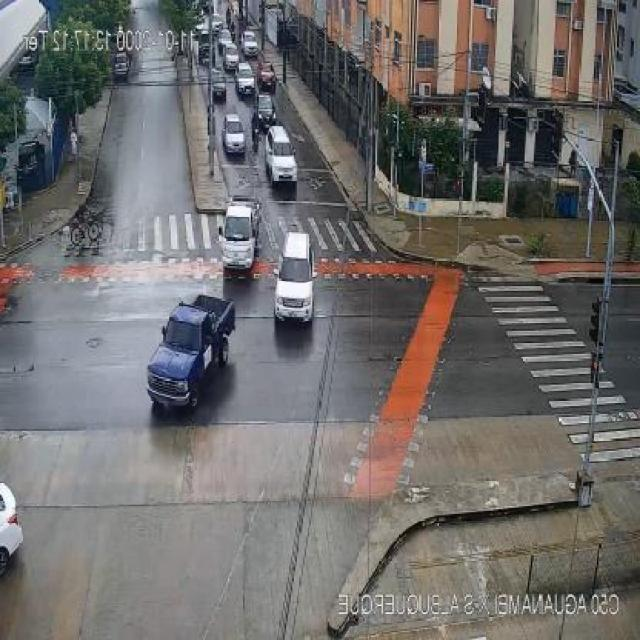Car: (277, 232, 317, 324), (263, 124, 300, 187), (15, 141, 46, 182), (222, 114, 247, 156), (252, 93, 276, 129), (235, 62, 256, 92), (258, 60, 276, 89), (222, 43, 240, 69), (240, 31, 259, 55), (113, 53, 131, 77), (216, 27, 233, 51), (211, 13, 224, 32)
Cycle: (68, 216, 101, 244), (252, 125, 260, 155)
Truck: (146, 294, 236, 410), (216, 194, 263, 275)
